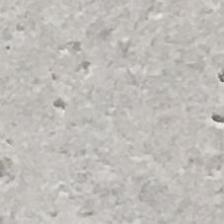Non_Crack: (8, 10, 224, 194)
